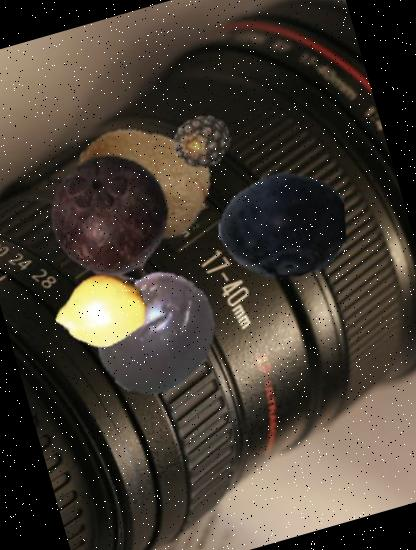Blueberry: (203, 147, 360, 304)
Kiwi: (57, 99, 229, 271)
Mangostan: (30, 138, 188, 296)
Passion: (77, 252, 238, 412)
Pineapple: (166, 106, 239, 178)
Quince: (44, 254, 156, 367)
